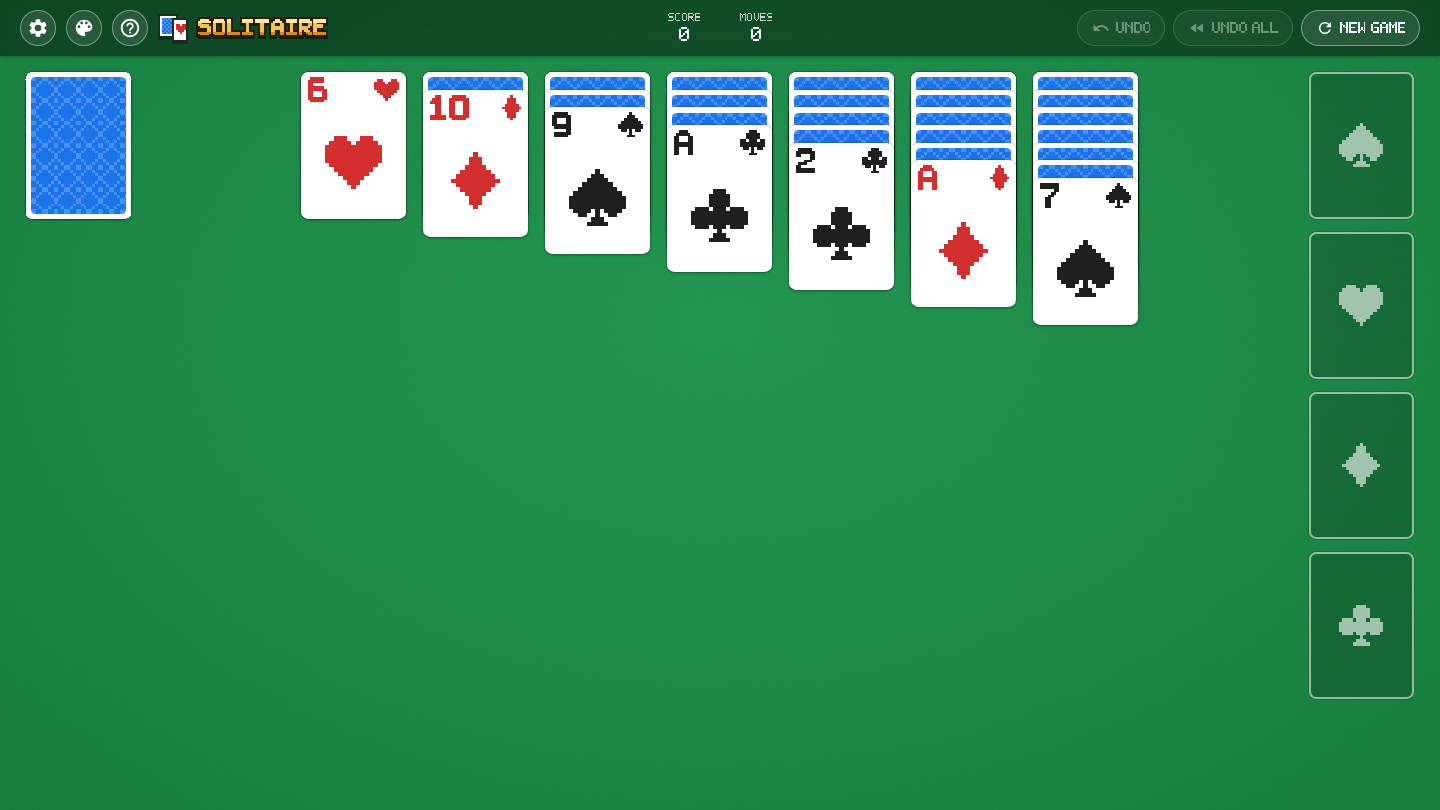
new game › Escape dismisses the confirmation
This screenshot has width=1440, height=810.
Click the button named "Stock," at {"x": 78, "y": 146}, box [26,72,131,219]
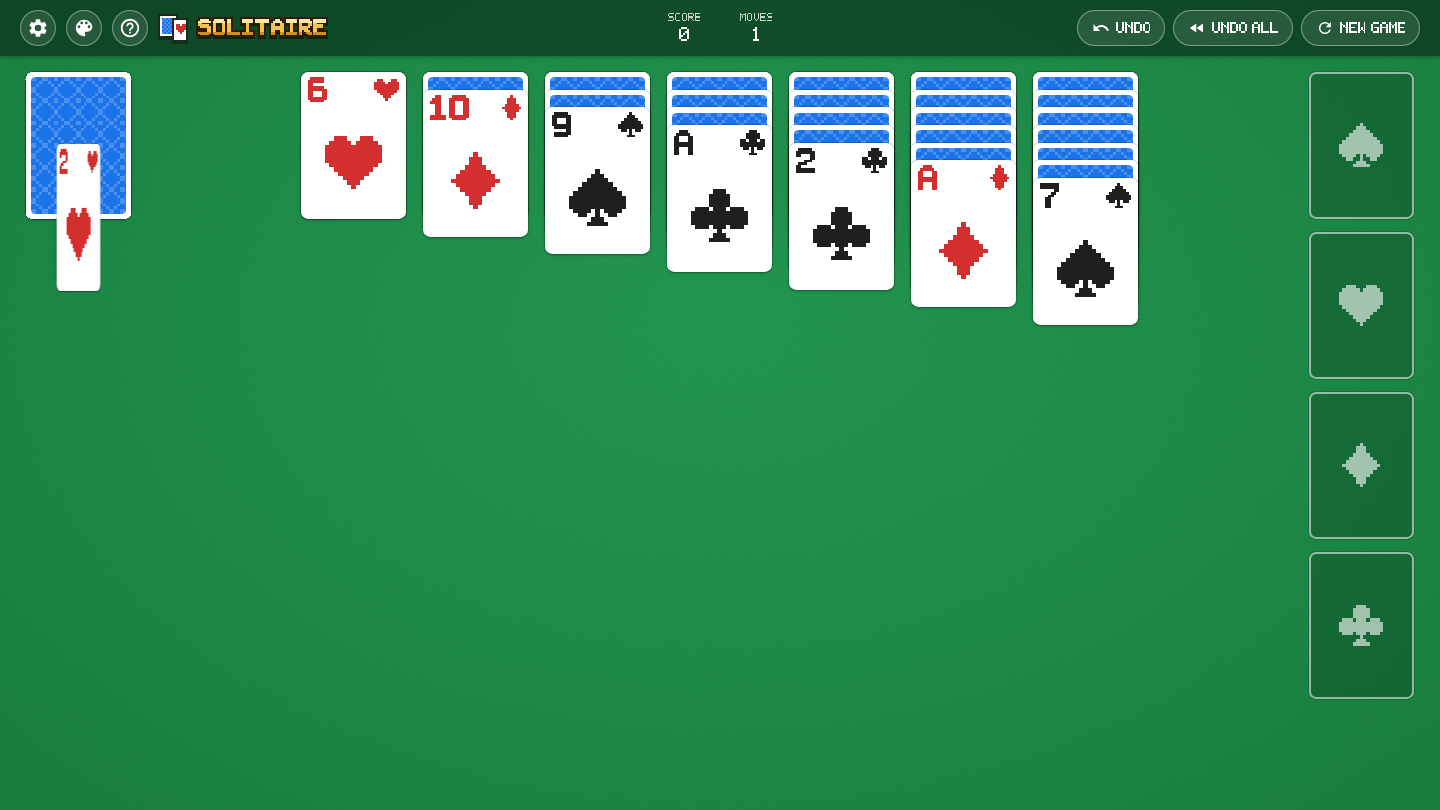
Click the button named "New game" at {"x": 1360, "y": 28}, box [1301,10,1420,46]
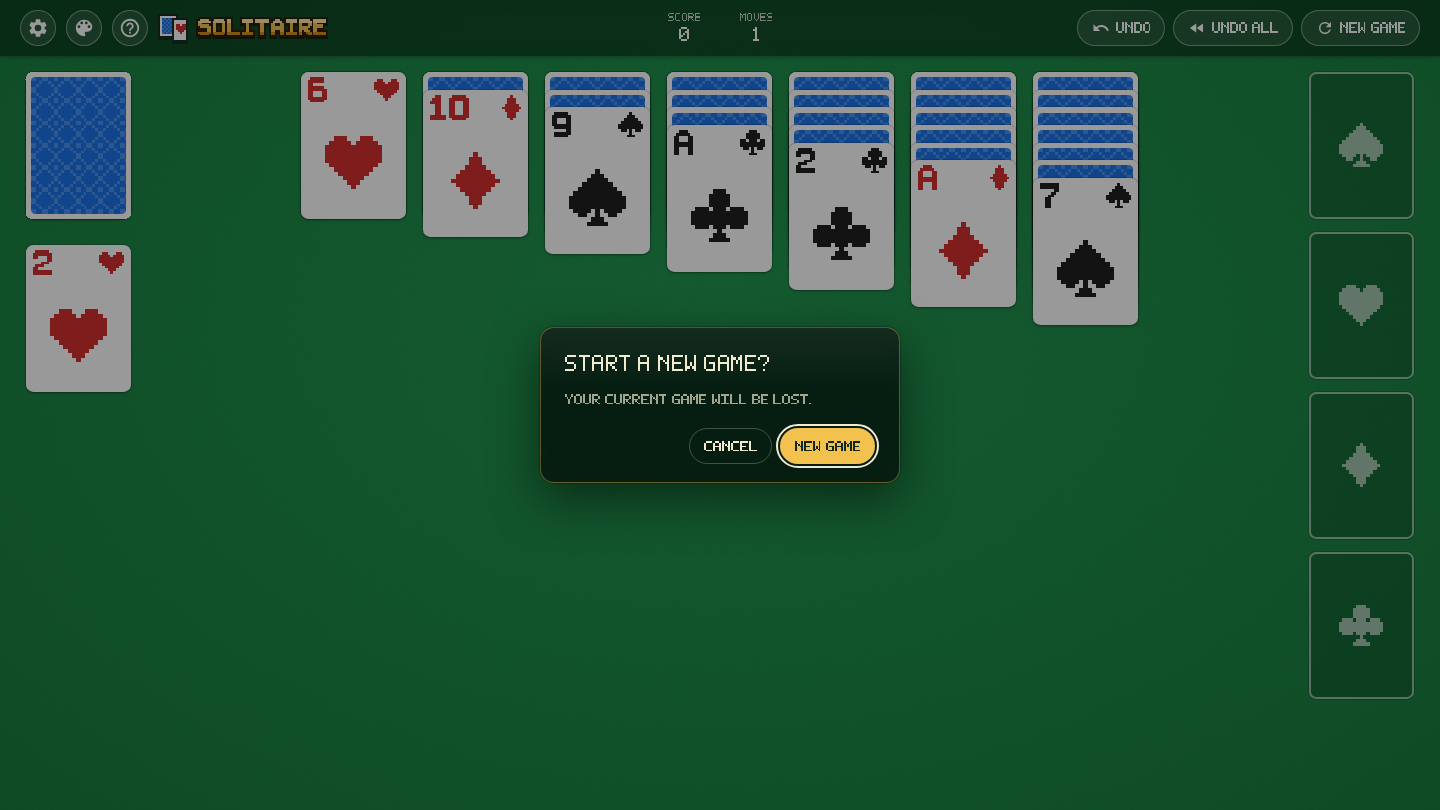
Press Enter
Result: the dialog is shown at [540,327,900,483]
Press Escape
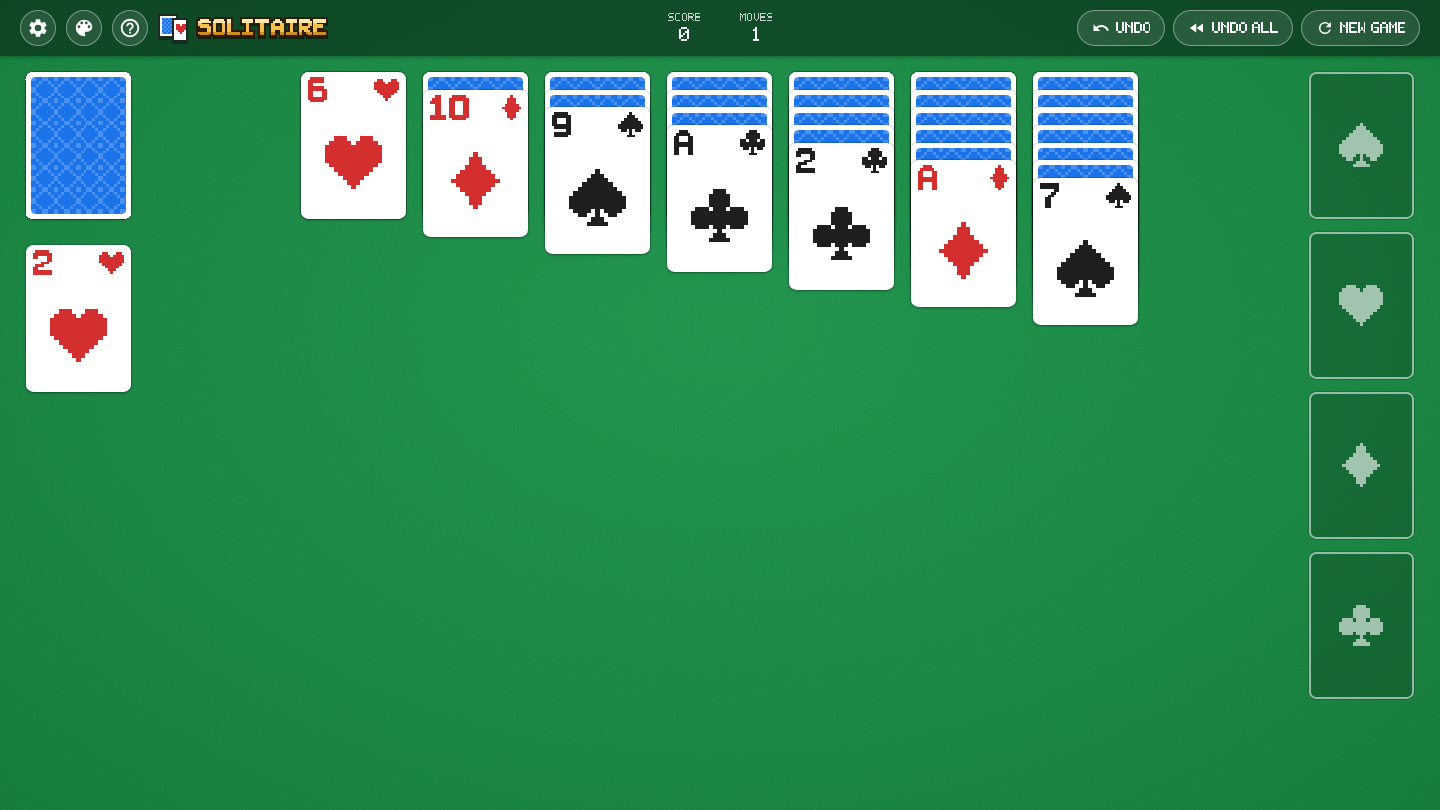
Result: the dialog is gone
